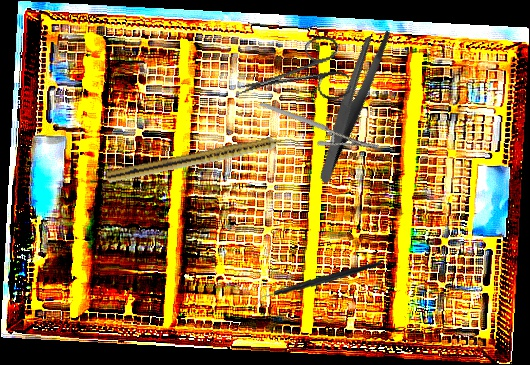Chopper: (255, 251, 381, 317)
Dressing Forceps: (281, 22, 423, 186)
Handpiece: (105, 130, 301, 188)
Iris Scissors: (230, 31, 354, 124)
Needle Holder: (258, 68, 382, 183)
